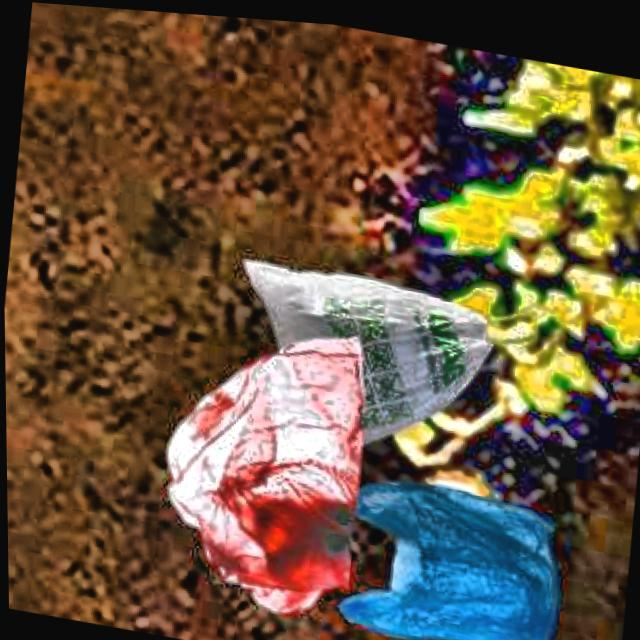Plastic: (198, 206, 544, 484), (151, 298, 385, 621), (323, 437, 577, 640)
